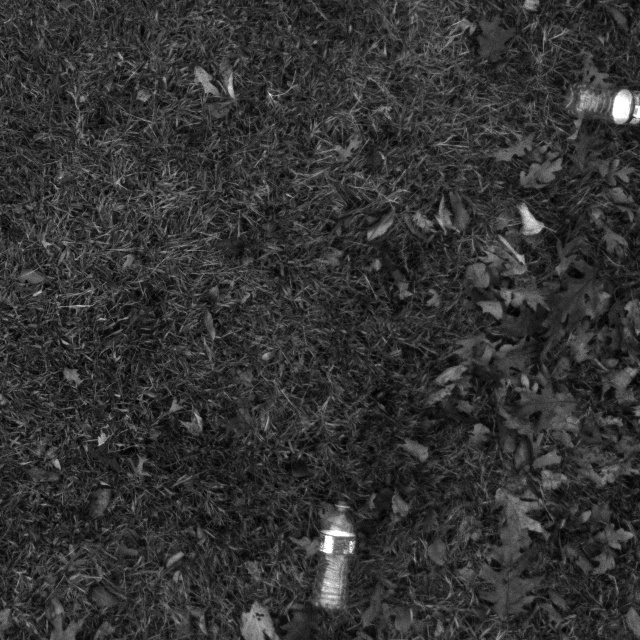bottle: (302, 495, 369, 624), (567, 73, 640, 136)
